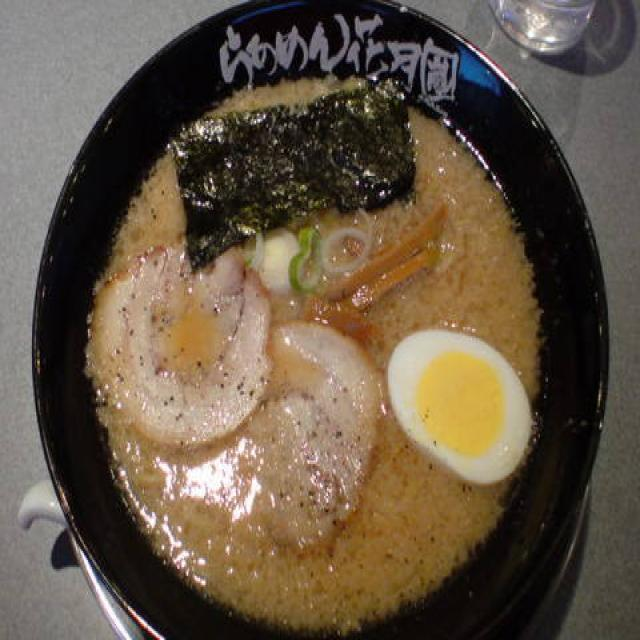面条主食: (24, 10, 600, 640)
